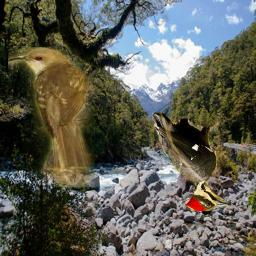Cuckoo: (8, 47, 95, 187)
Woodpecker: (152, 112, 232, 211)
